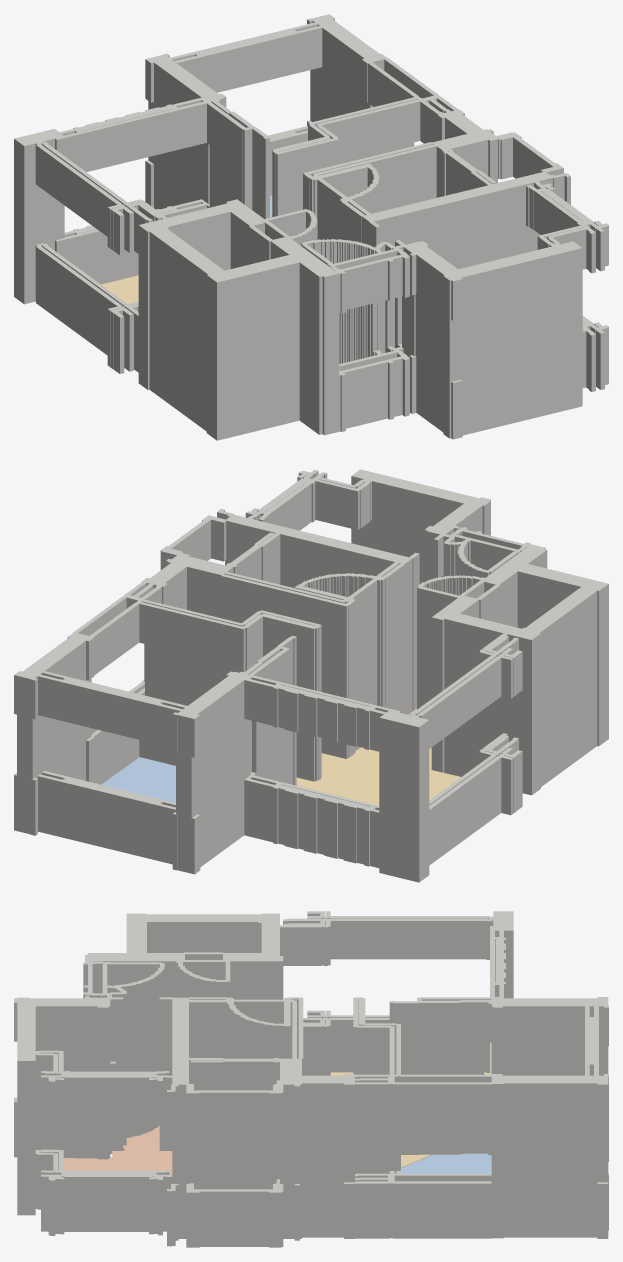
3 renders of one model, top to bottom at view 1: azimuth 30°, elevation 25°; view 2: azimuth 150°, elevation 25°; view 3: azimuth 270°, elevation 25°, orthographic. The views are drawn at different scales.
Visible parts, largest first — view 1: walls, room:living:0; view 2: walls, room:living:0, room:bedroom:4; view 3: walls, room:kitchen:5, room:bedroom:4.
Boxes of the visible parts, <box> form: walls: <box>14,14,608,440</box>; room:living:0: <box>101,275,138,303</box>; walls: <box>14,469,608,882</box>; room:living:0: <box>296,747,460,805</box>; room:bedroom:4: <box>101,757,175,802</box>; walls: <box>14,911,608,1247</box>; room:kitchen:5: <box>63,1125,172,1174</box>; room:bedroom:4: <box>401,1153,491,1173</box>.
Size of the model in its own units: 7.08 by 2.8 by 9.78.
